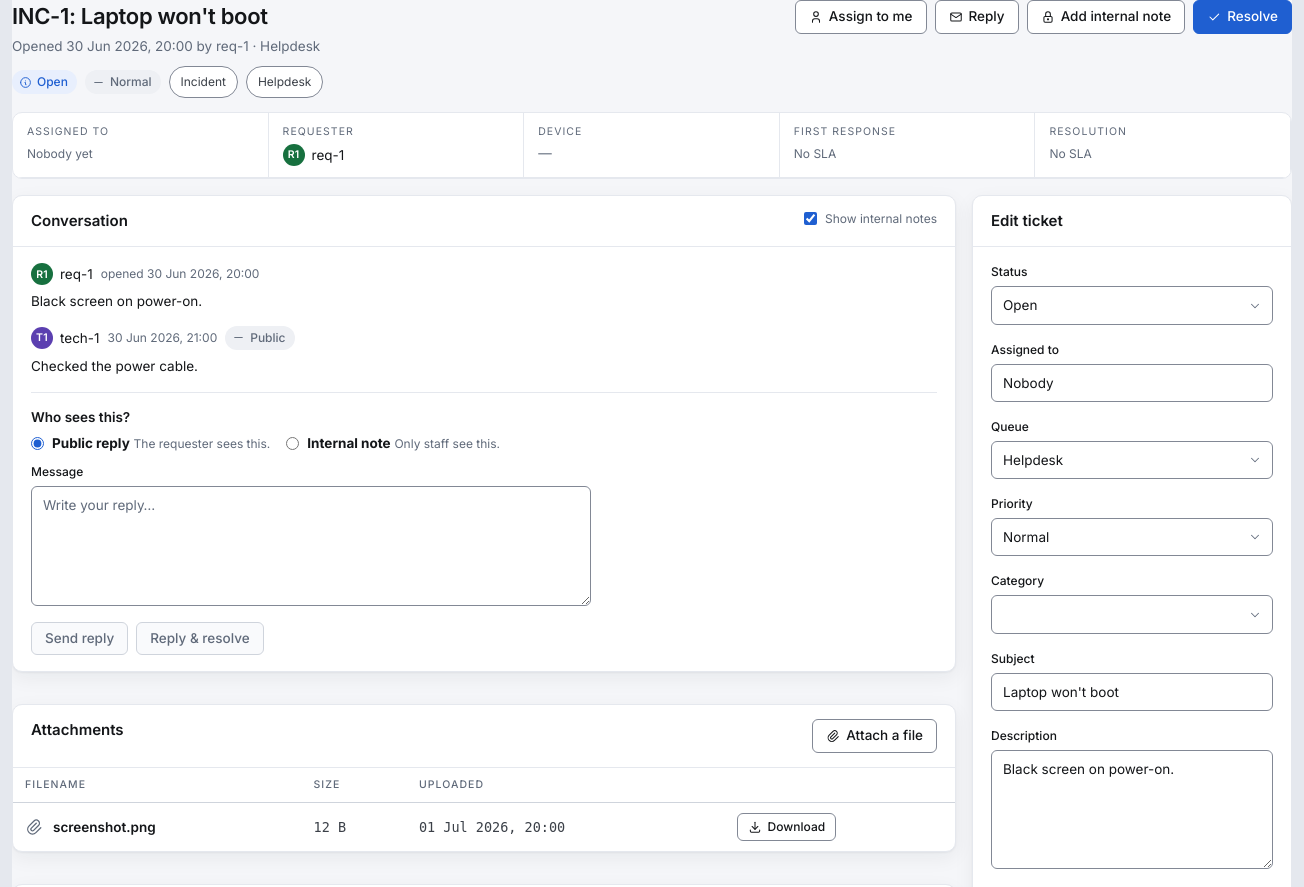
Scenario: service desk reports every failure as an announced sentence › tells the technician when a download is refused instead of silently doing nothing
Click the button "Download" at coordinates (786, 827), box left=737, top=813, right=836, bottom=841
(page scrolled)
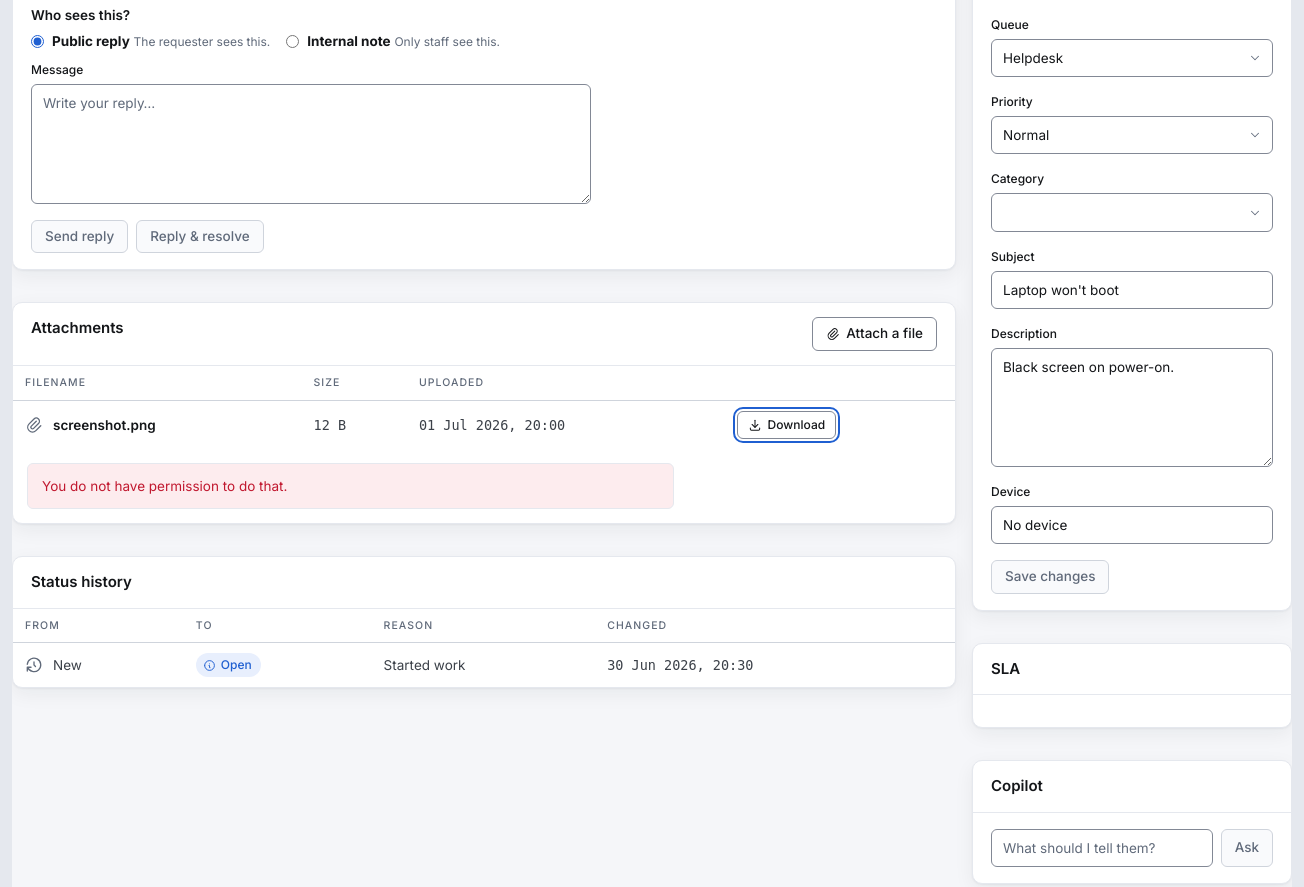
Expected: the message reads "You do not have permission to do that.", left=42, top=478, right=287, bottom=494
